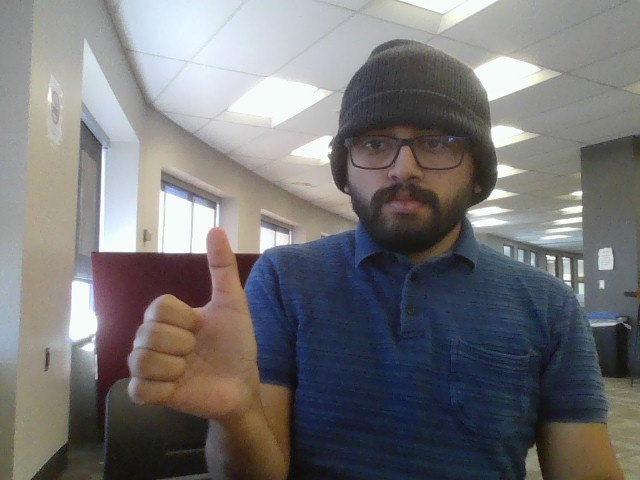start: (125, 224, 275, 445)
